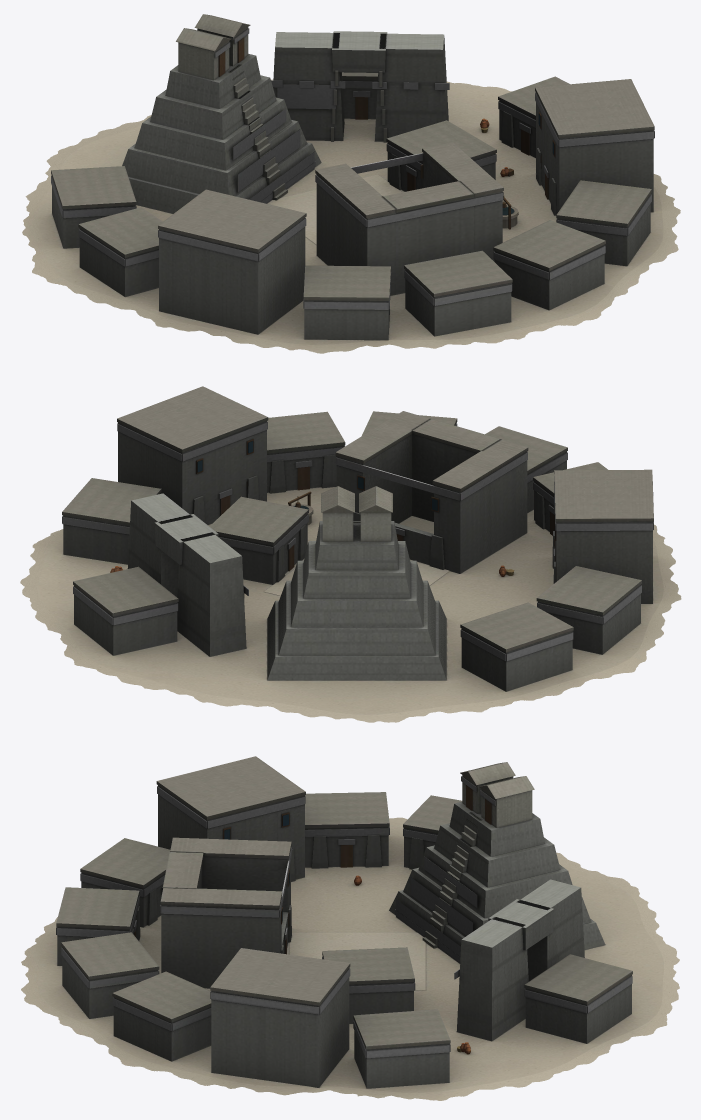
File: kingdoms-town-medium-a-americas.glb
3 views of the same model, one above another, from view 1: azimuth 30°, elevation 25°; view 2: azimuth 150°, elevation 25°; view 3: azimuth 270°, elevation 25° (orthographic).
Visible parts, largest first — view 1: LOD0; view 2: LOD0; view 3: LOD0.
Boxes of the visible parts, x1,y1,x2,y2 form: LOD0: (22,14,680,353); LOD0: (20,386,681,722); LOD0: (21,756,679,1100).
Size of what is drawn, in the model's own units: 6.04 by 1.53 by 5.93.
Materials: 3 (3 with a texture image).
